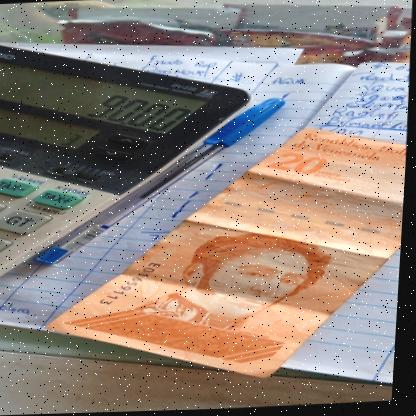twenty-front-vef: (0, 17, 355, 284)
